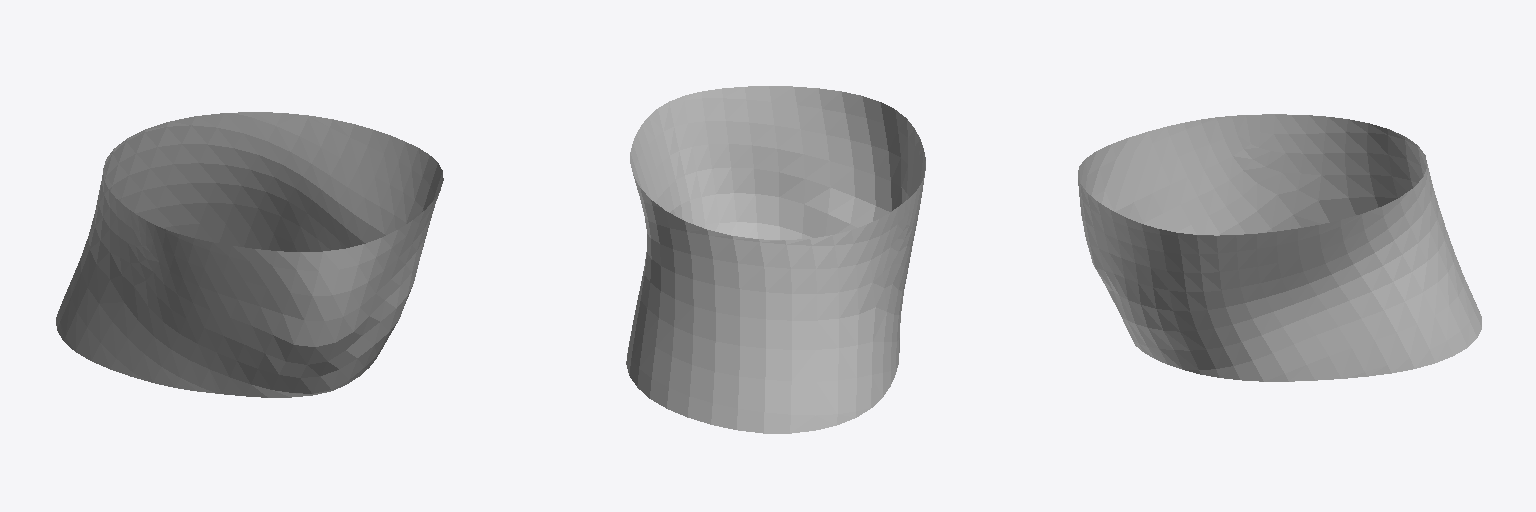
The model's file is genunchiD.obj.
The picture shows the model from 3 angles: view 1: azimuth 30°, elevation 25°; view 2: azimuth 150°, elevation 25°; view 3: azimuth 270°, elevation 25°; orthographic projection.
Visible parts, largest first — view 1: genunchiD; view 2: genunchiD; view 3: genunchiD.
Part boxes in pixels (bbox=[...]): genunchiD: bbox=[56, 112, 443, 397]; genunchiD: bbox=[626, 86, 925, 433]; genunchiD: bbox=[1078, 114, 1481, 381].
Size of the model in its own units: 1.53 by 0.9247 by 1.89.